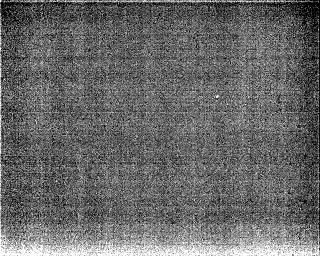BIRD: (214, 93, 221, 101)
